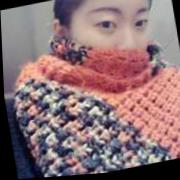WRONG: (61, 1, 168, 105)
